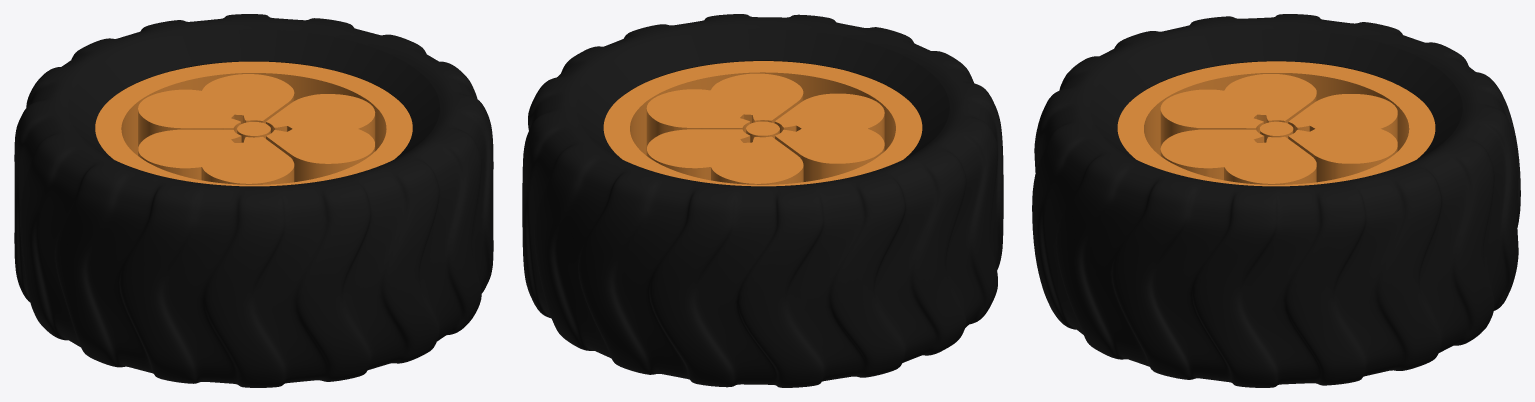
File: wheel.glb
3 renders of one model, left to right at view 1: azimuth 30°, elevation 25°; view 2: azimuth 150°, elevation 25°; view 3: azimuth 270°, elevation 25°, orthographic.
Visible parts, largest first — view 1: wheel; view 2: wheel; view 3: wheel.
Boxes of the visible parts, <box> form: wheel: <box>14,14,493,387</box>; wheel: <box>522,14,1003,387</box>; wheel: <box>1032,14,1520,387</box>.
Size of the model in its own units: 0.6814 by 0.3073 by 0.7.
